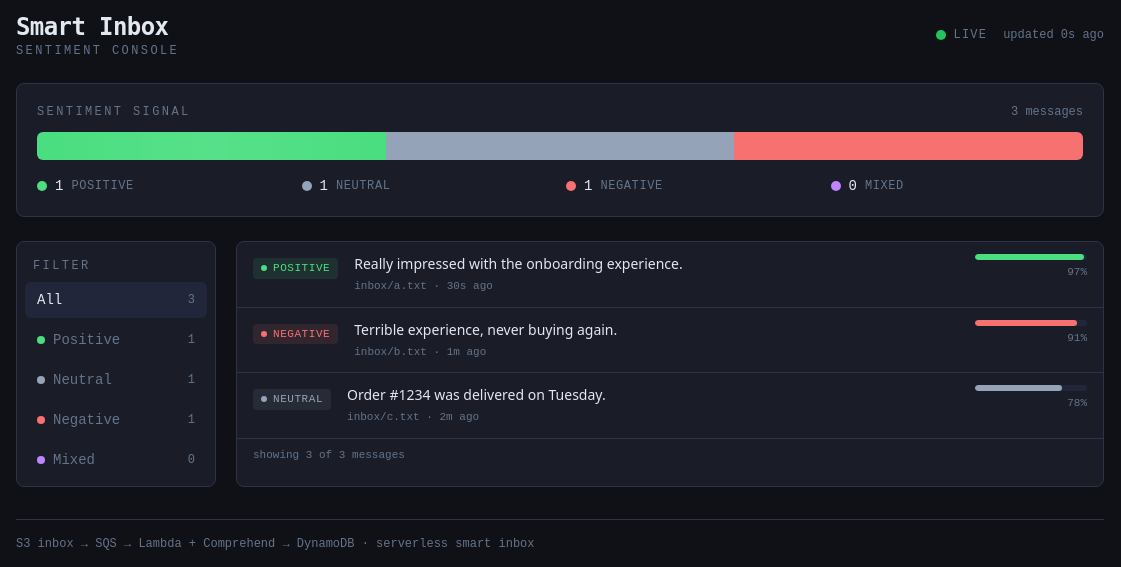
Scenario: Dashboard › shows no-matches state when filter yields zero results (not inbox-quiet)
Click the button "Mixed 0": [116, 460] box [25,442,207,478]
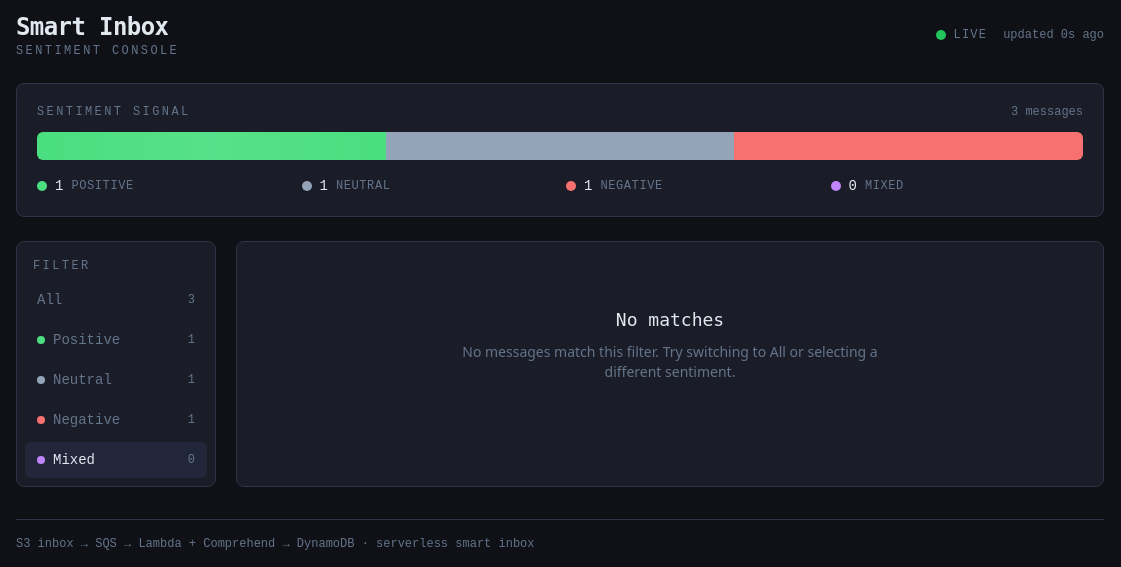
Now the text "No matches" is shown, box [616,309,724,330]
